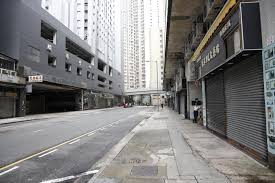strada: (1, 104, 154, 181)
